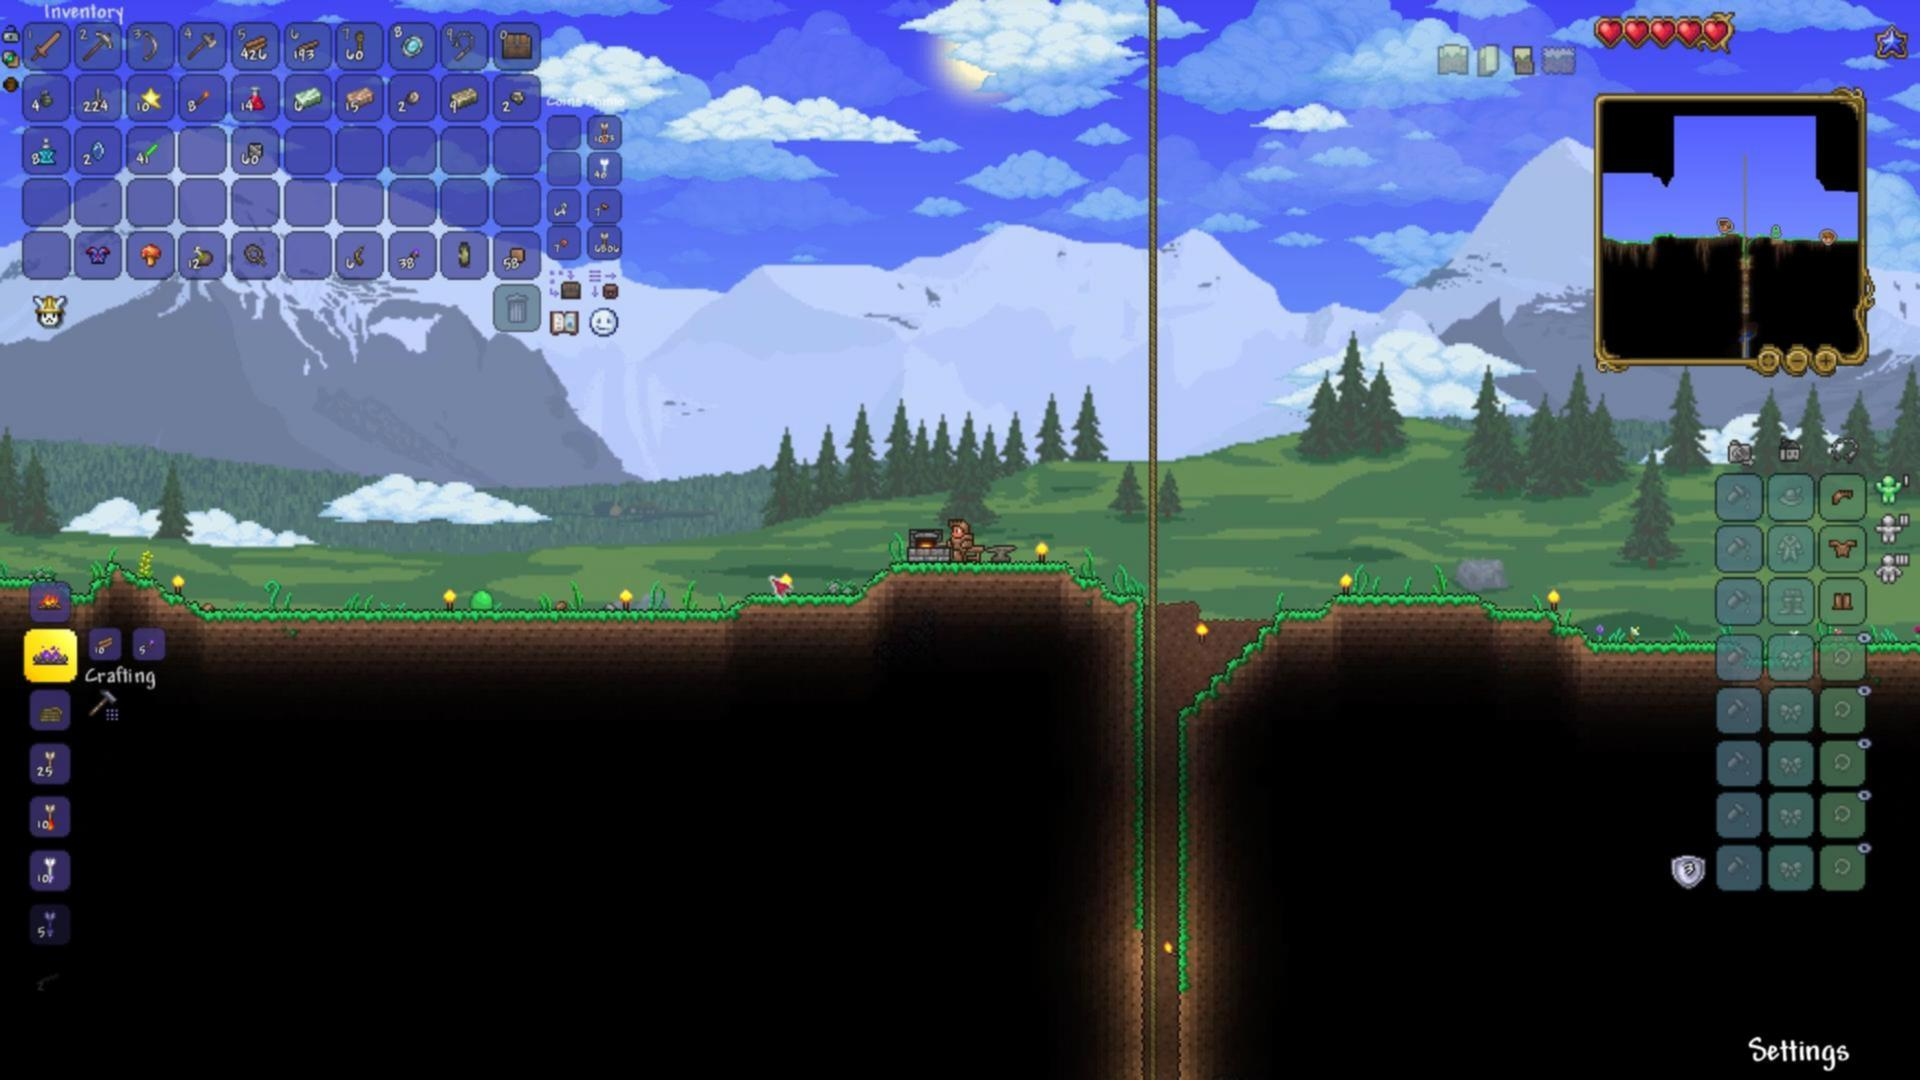anvil: (984, 538, 1022, 562)
chest: (498, 26, 537, 62)
furnace: (902, 525, 956, 560)
potion: (245, 80, 265, 112)
recallP: (37, 135, 58, 165)
slime: (468, 585, 497, 615)
